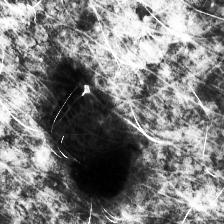Benign Marking or Mole: (48, 69, 140, 196)
